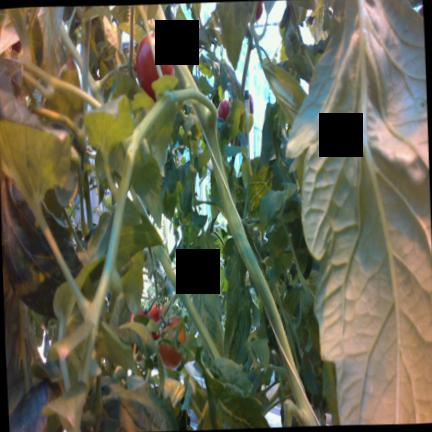MainStem: (154, 4, 321, 428)
tomato: (136, 33, 174, 100), (159, 315, 186, 369), (148, 304, 163, 322), (218, 100, 229, 120), (255, 1, 263, 21), (250, 94, 253, 114)
